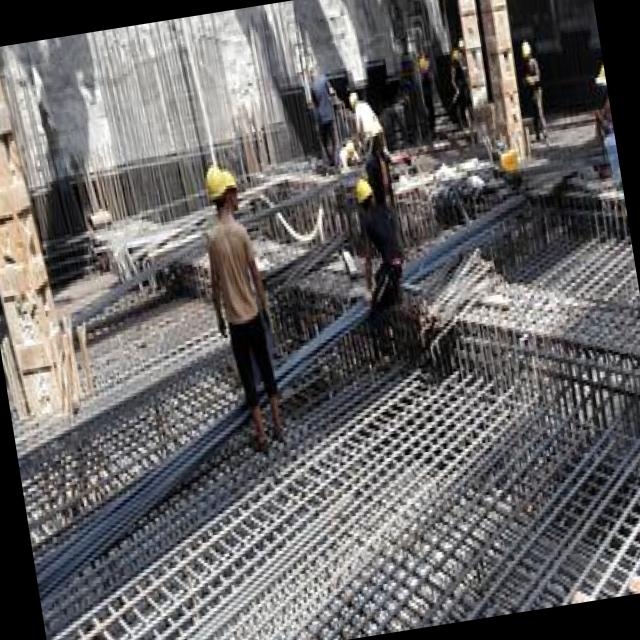helmet: (196, 156, 236, 222), (217, 161, 246, 216), (351, 168, 383, 215)
